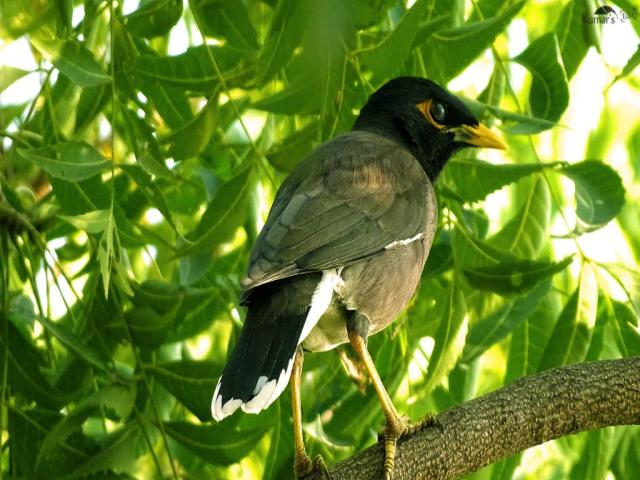Bird: (210, 74, 508, 480)
